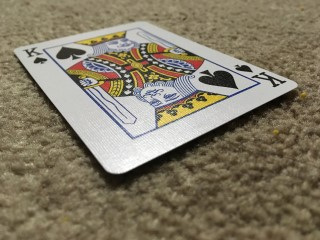KingOfSpades: (15, 22, 297, 173)
